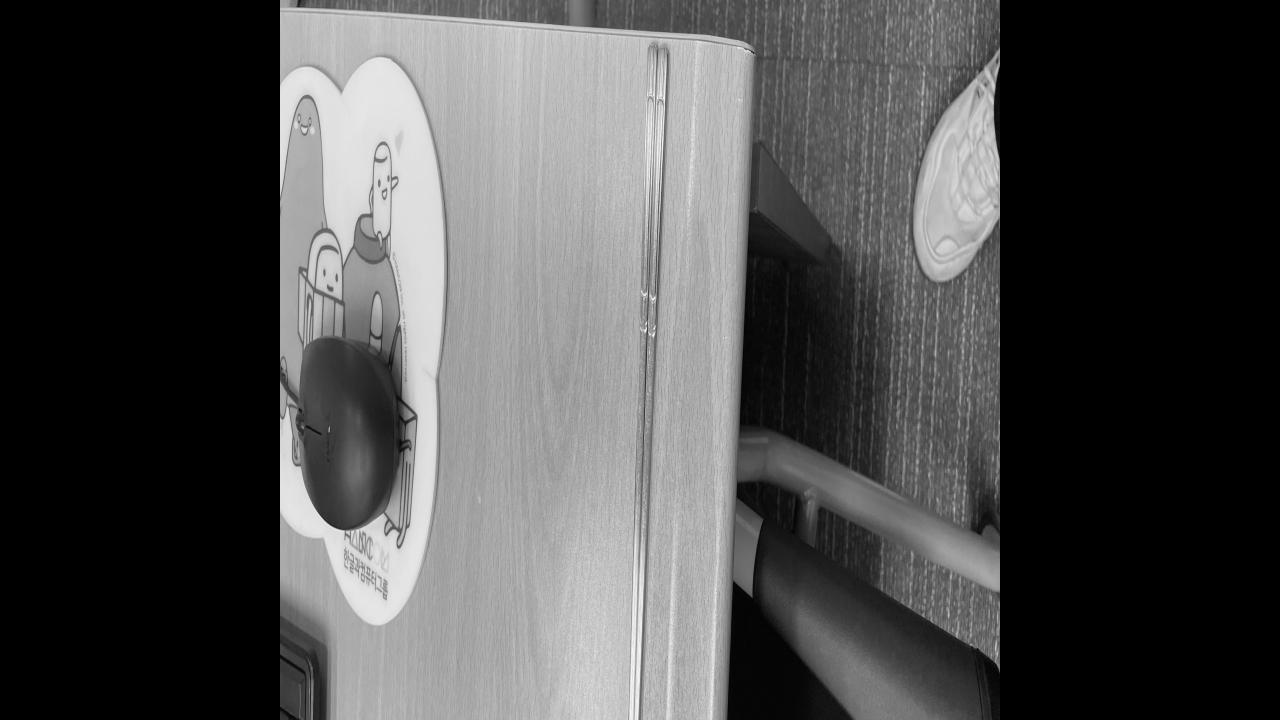chopstick: (626, 39, 669, 720)
